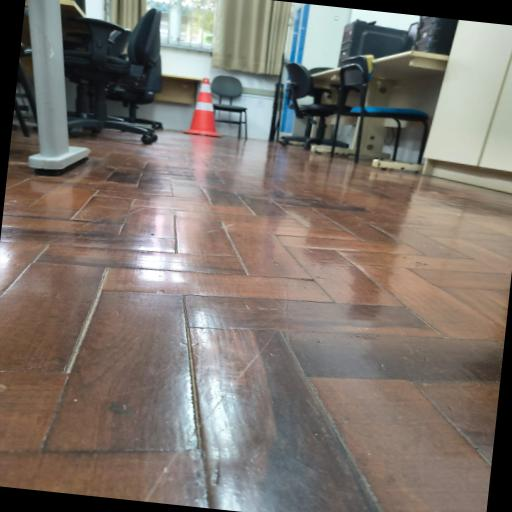cone: (182, 74, 232, 139)
